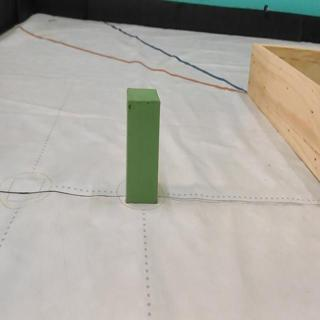greenbox: (125, 85, 164, 205)
